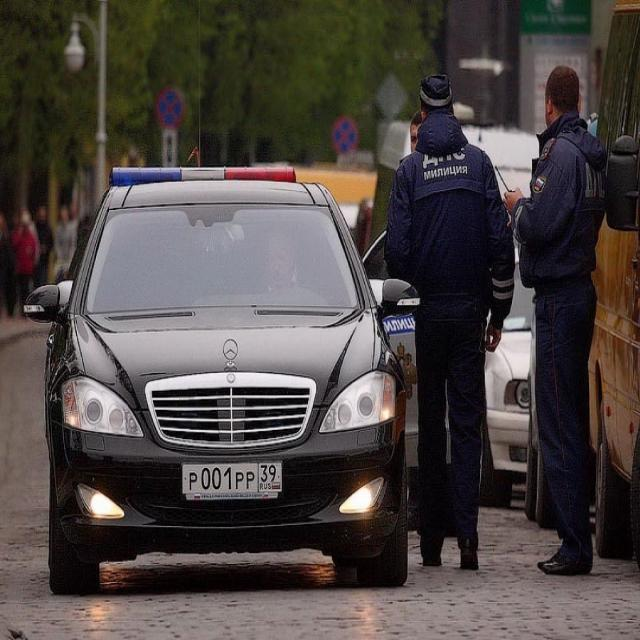number-plates: (180, 459, 282, 504)
